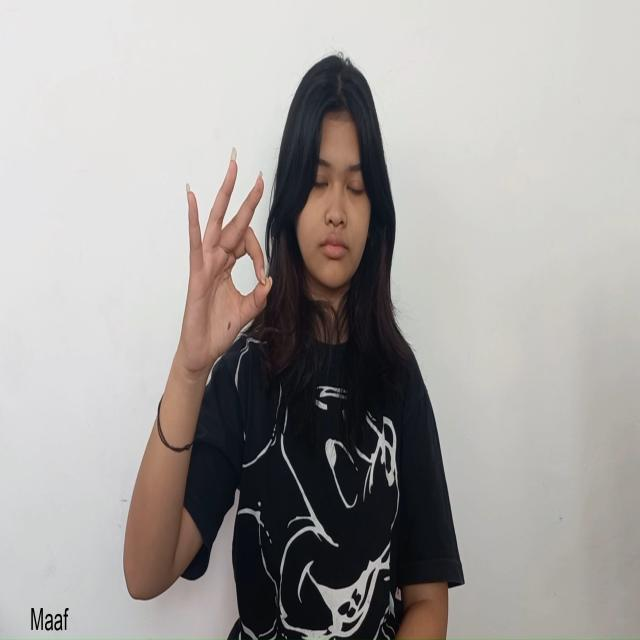Maaf -BISINDO-: (176, 145, 274, 403)
